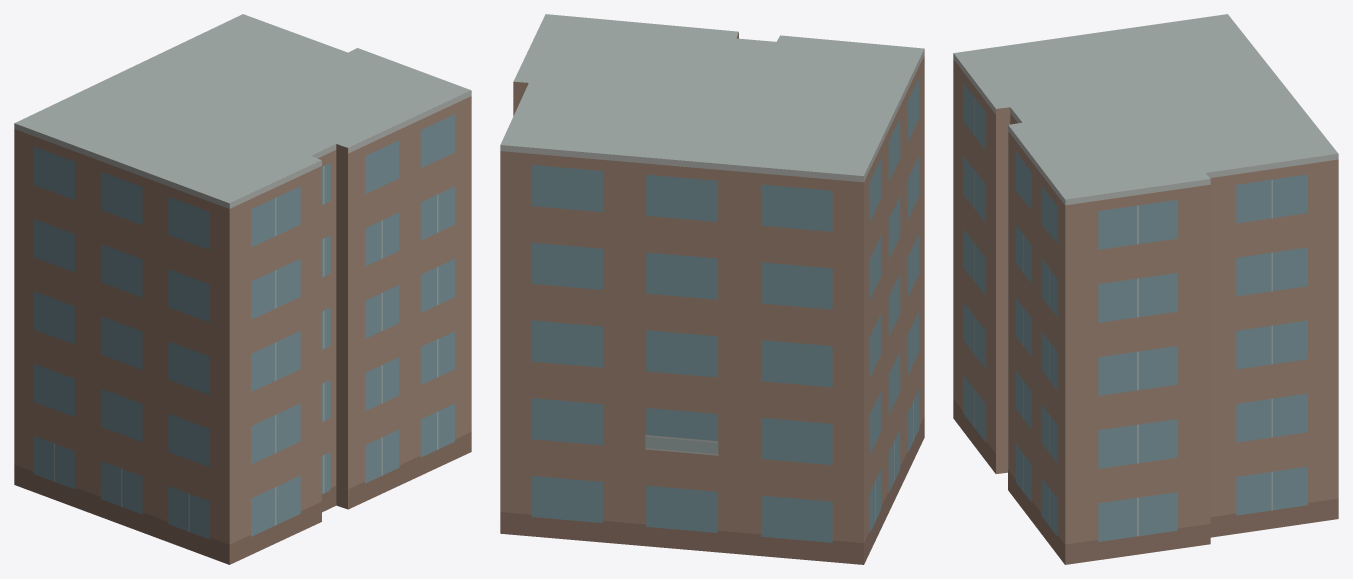
Rendered from survey-upis-32748274.glb.
3 renders of one model, left to right at view 1: azimuth 30°, elevation 25°; view 2: azimuth 150°, elevation 25°; view 3: azimuth 270°, elevation 25°, orthographic. The views are drawn at different scales.
Parts seen in each view (by area): view 1: survey-upis-32748274.tmp; view 2: survey-upis-32748274.tmp; view 3: survey-upis-32748274.tmp.
Part boxes in pixels (x1=…): survey-upis-32748274.tmp: x1=14, y1=14, x2=471, y2=564; survey-upis-32748274.tmp: x1=500, y1=14, x2=924, y2=564; survey-upis-32748274.tmp: x1=953, y1=14, x2=1338, y2=564.
Bounding box in the file's own units: 16.91 × 15.5 × 14.82.
